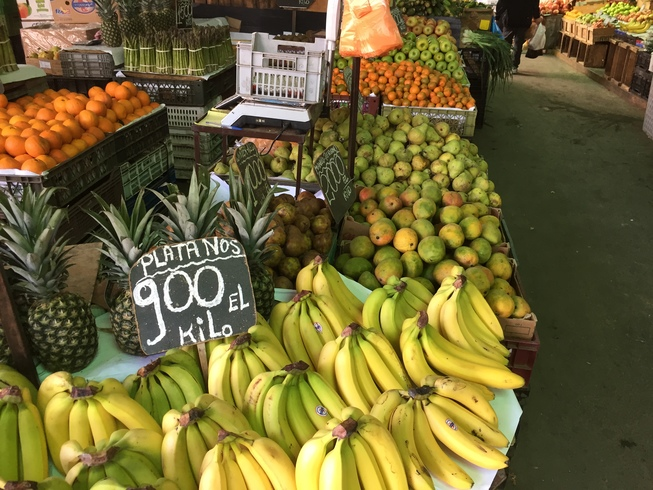precio: (125, 241, 262, 352)
